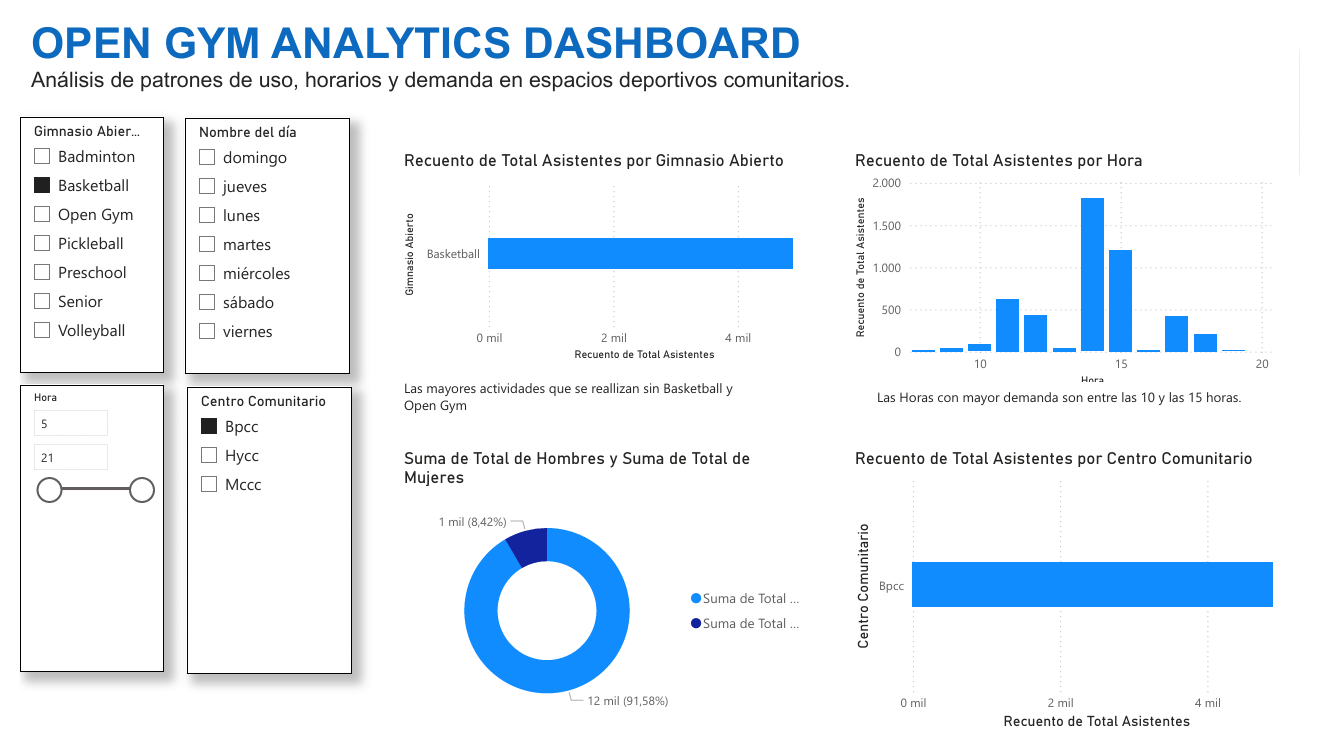

The page's visual inventory and layout, read from the dashboard file:
{"tool":"powerbi","page":{"name":"Página 1","canvas":[1280,720],"ordinal":0},"visuals":[{"type":"clusteredBarChart","fields":{"Category":["open-gym.Gimnasio Abierto"],"Y":["CountNonNull(open-gym.Total Asistentes)"]},"box":[379.1,136.5,418.9,214.2],"z":0},{"type":"clusteredColumnChart","fields":{"Category":["open-gym.Hora"],"Y":["CountNonNull(open-gym.Total Asistentes)"]},"box":[830.2,136.5,428.4,240.7],"z":1000},{"type":"textbox","box":[379.1,360.1,363.9,72],"z":2000},{"type":"textbox","box":[851.7,368.8,384,64.6],"z":3000},{"type":"clusteredBarChart","fields":{"Category":["open-gym.Centro Comunitario"],"Y":["CountNonNull(open-gym.Total Asistentes)"]},"box":[830.2,434,449.2,286.2],"z":4000},{"type":"donutChart","fields":{"Y":["Sum(open-gym.Total de Hombres)","Sum(open-gym.Total de Mujeres)"]},"box":[379.1,434,418.9,286.2],"z":5000},{"type":"textbox","box":[5.7,0,1273.7,122.8],"z":6000},{"type":"slicer","fields":{"Values":["open-gym.Nombre del día"]},"box":[164.9,104.2,164.9,255.9],"z":7000},{"type":"slicer","fields":{"Values":["open-gym.Gimnasio Abierto"]},"box":[0,102.7,144.5,256.6],"z":8000},{"type":"slicer","fields":{"Values":["open-gym.Centro Comunitario"]},"box":[166.8,373.4,164.9,286.2],"z":9000},{"type":"slicer","fields":{"Values":["open-gym.Hora"]},"box":[0,371.5,144,286.2],"z":10000}]}

Visuals, with their boxes in screenshot pixels (x1, y1, x2, y2), scaled from the page's 1280x720 canvas onto the 1317x753 screenshot:
clusteredBarChart - open-gym.Gimnasio Abierto x CountNonNull(open-gym.Total Asistentes): {"x1": 390, "y1": 143, "x2": 821, "y2": 367}
clusteredColumnChart - open-gym.Hora x CountNonNull(open-gym.Total Asistentes): {"x1": 854, "y1": 143, "x2": 1295, "y2": 394}
textbox: {"x1": 390, "y1": 377, "x2": 764, "y2": 452}
textbox: {"x1": 876, "y1": 386, "x2": 1271, "y2": 453}
clusteredBarChart - open-gym.Centro Comunitario x CountNonNull(open-gym.Total Asistentes): {"x1": 854, "y1": 454, "x2": 1316, "y2": 752}
donutChart - Sum(open-gym.Total de Hombres) x Sum(open-gym.Total de Mujeres): {"x1": 390, "y1": 454, "x2": 821, "y2": 752}
textbox: {"x1": 6, "y1": 0, "x2": 1316, "y2": 128}
slicer - open-gym.Nombre del día: {"x1": 170, "y1": 109, "x2": 339, "y2": 377}
slicer - open-gym.Gimnasio Abierto: {"x1": 0, "y1": 107, "x2": 149, "y2": 376}
slicer - open-gym.Centro Comunitario: {"x1": 172, "y1": 391, "x2": 341, "y2": 690}
slicer - open-gym.Hora: {"x1": 0, "y1": 389, "x2": 148, "y2": 688}
